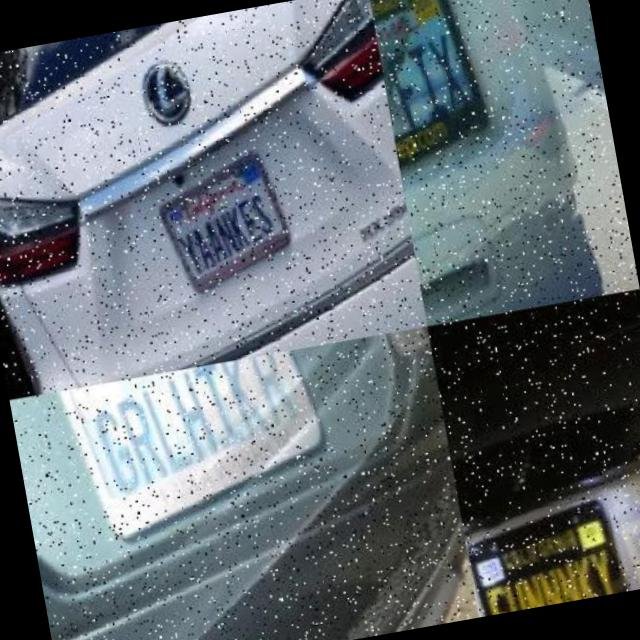LicensePlate: (44, 344, 350, 554), (368, 0, 515, 189), (147, 149, 310, 298), (461, 487, 640, 617)
